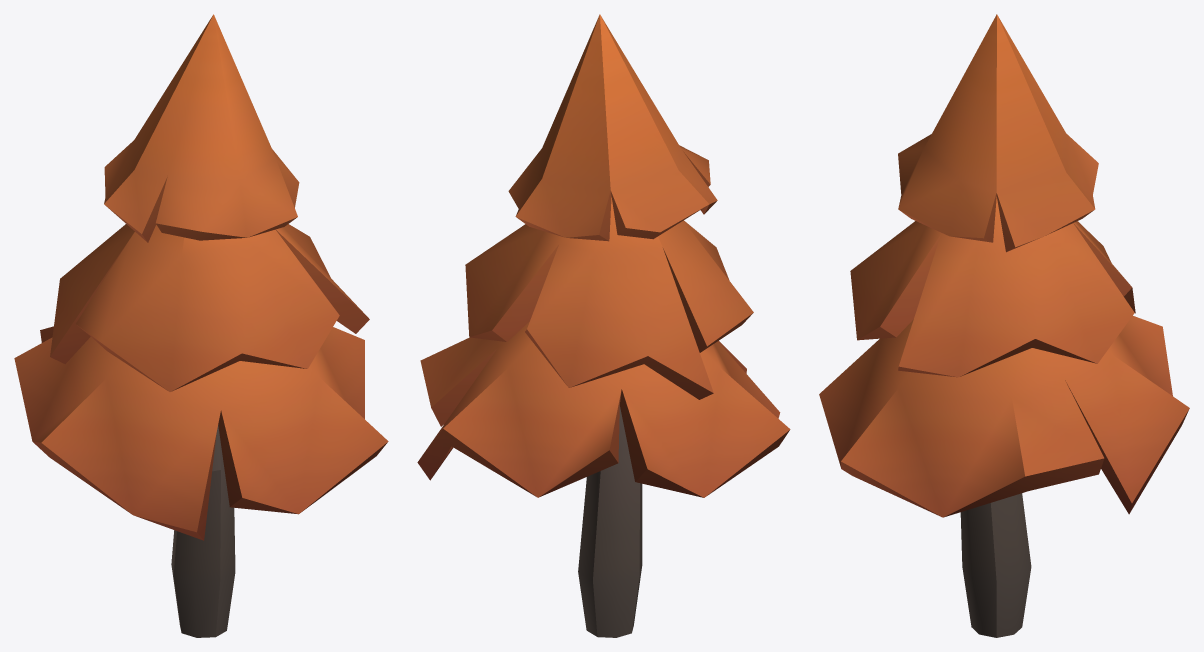
The model's file is d_kaykit_sapin_roux_petit.glb.
3 views of the same model, side by side, from view 1: azimuth 30°, elevation 25°; view 2: azimuth 150°, elevation 25°; view 3: azimuth 270°, elevation 25° (orthographic).
Visible parts, largest first — view 1: d_kaykit_sapin_roux_petit; view 2: d_kaykit_sapin_roux_petit; view 3: d_kaykit_sapin_roux_petit.
Boxes of the visible parts, x1,y1,x2,y2 form: d_kaykit_sapin_roux_petit: (14,14,388,637); d_kaykit_sapin_roux_petit: (417,14,790,637); d_kaykit_sapin_roux_petit: (819,14,1189,637).
Size of the model in its own units: 2.4 by 4.04 by 2.2.
1 material, 1 textured.
